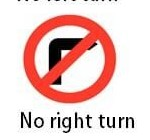Traffic signal: (21, 12, 117, 104)
